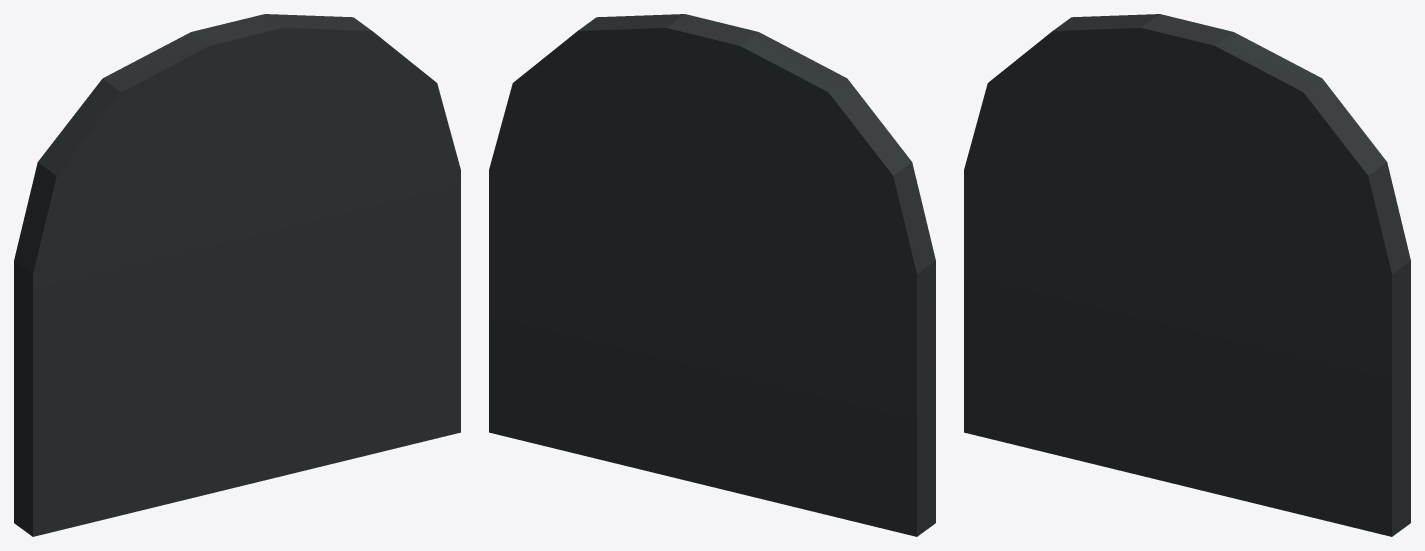
File: Mailbox_02.fbx
3 renders of one model, left to right at view 1: azimuth 30°, elevation 25°; view 2: azimuth 150°, elevation 25°; view 3: azimuth 330°, elevation 25°, orthographic.
Visible parts, largest first — view 1: Mailbox_02; view 2: Mailbox_02; view 3: Mailbox_02.
Boxes of the visible parts, left/top/right/bottom form: Mailbox_02: left=14, top=14, right=460, bottom=536; Mailbox_02: left=489, top=14, right=935, bottom=536; Mailbox_02: left=964, top=14, right=1410, bottom=536.
Bounding box in the file's own units: 0.2398 × 0.2398 × 0.0184.
